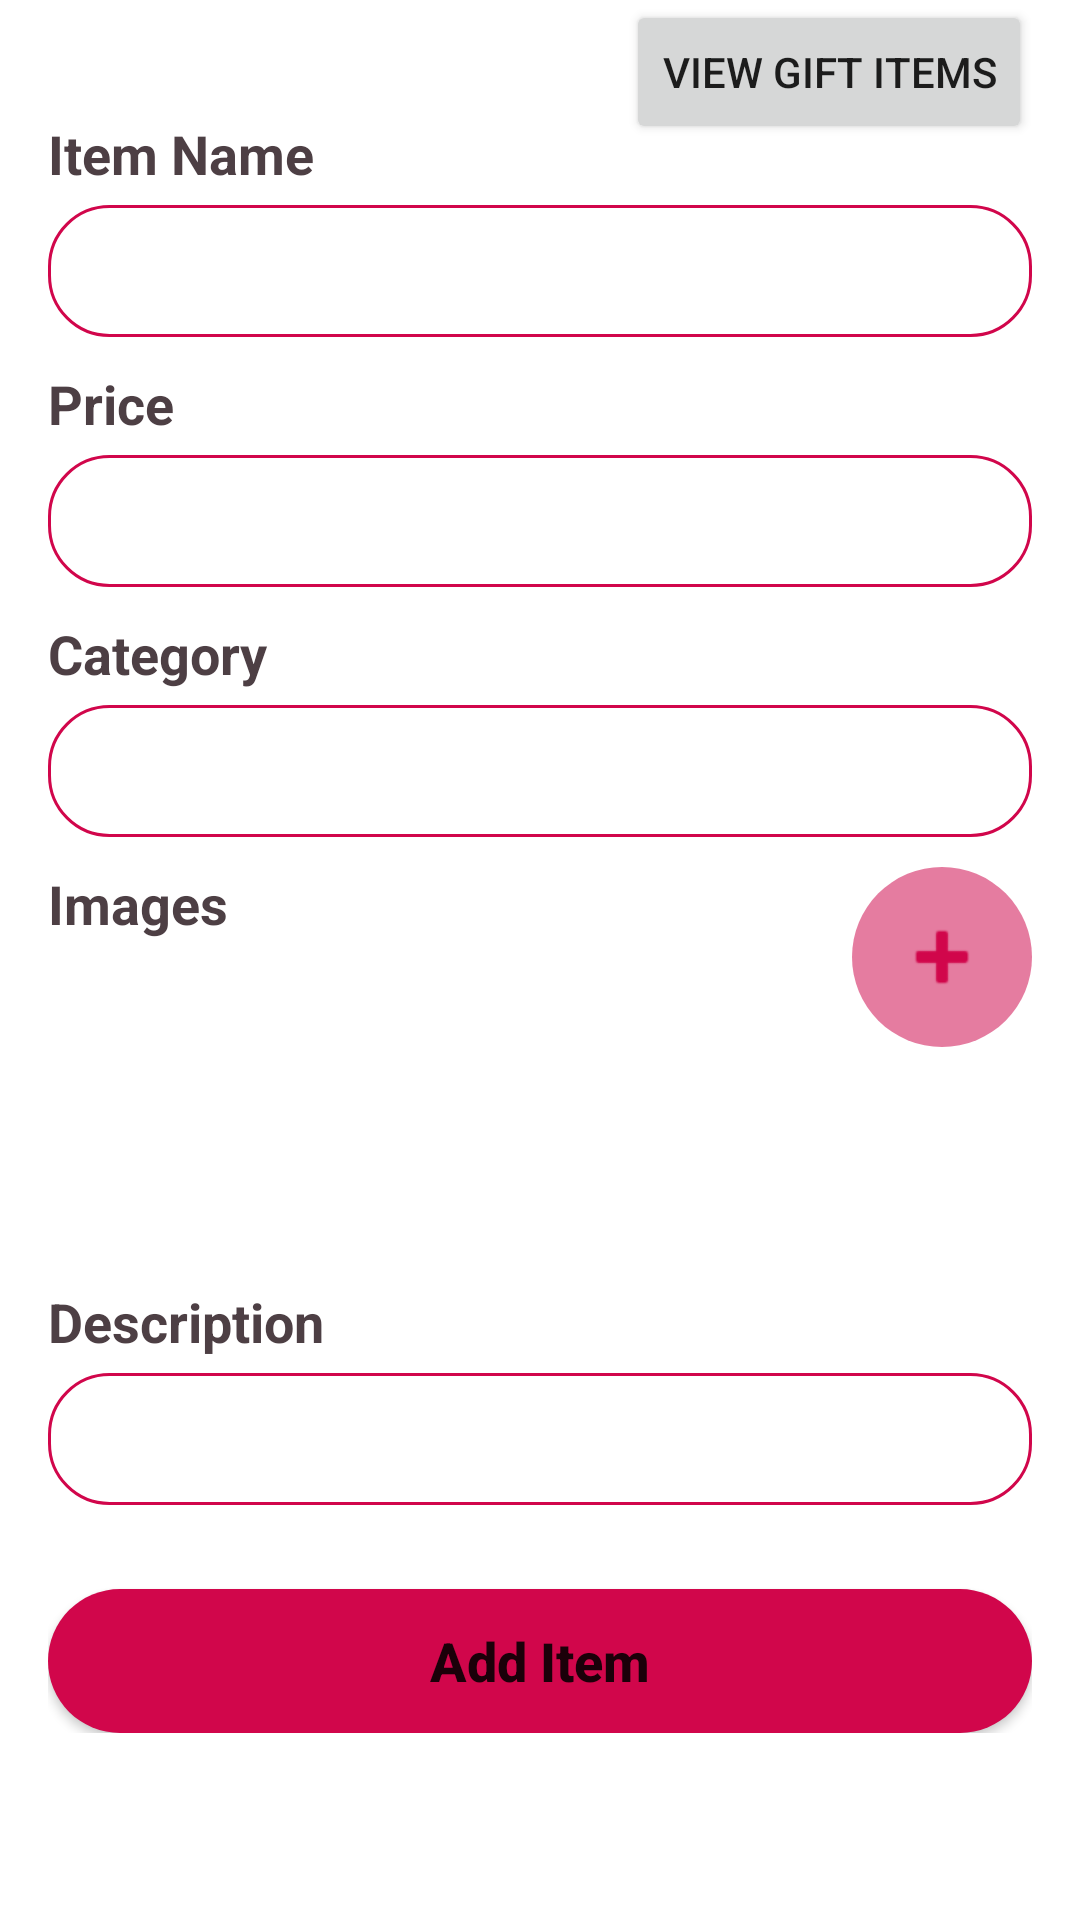

Point at icon controls on the screen. Image size 1080w x 1920h, points as point (x, y).
add: point (942, 957)
